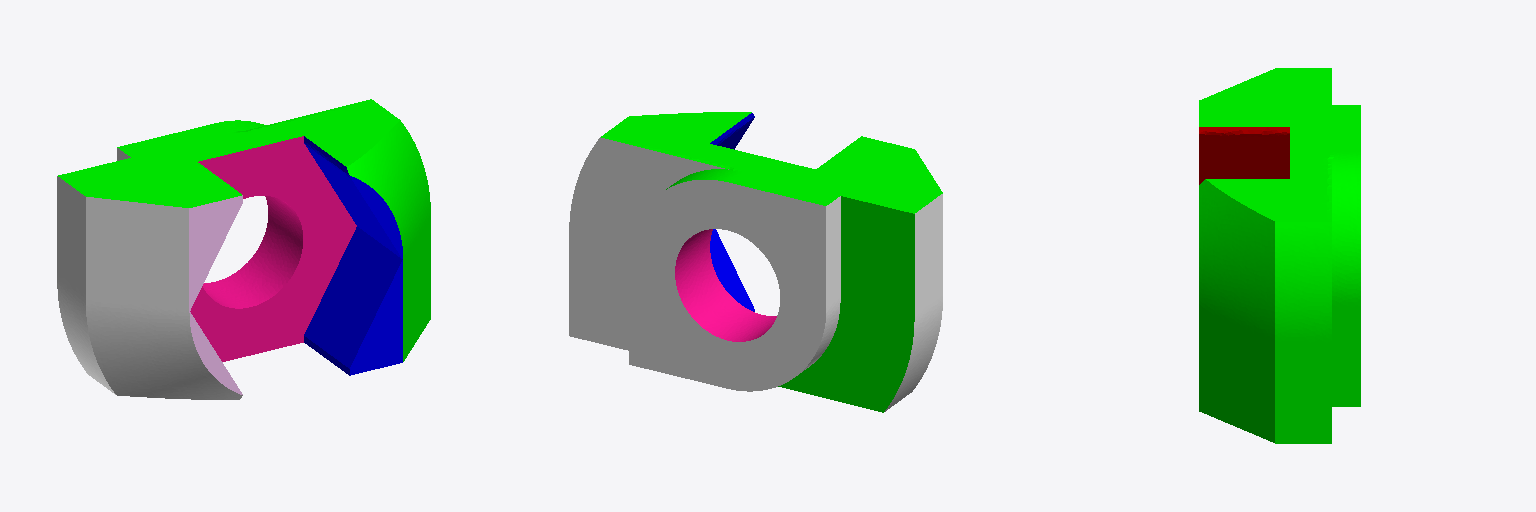
Rendered from model_16_segmented.obj.
The picture shows the model from 3 angles: view 1: azimuth 30°, elevation 25°; view 2: azimuth 150°, elevation 25°; view 3: azimuth 270°, elevation 25°; orthographic projection.
Size of the model in its own units: 10.5 by 6 by 4.25.